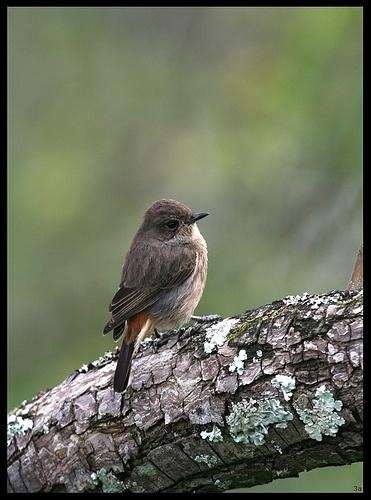bird: (101, 197, 223, 395)
